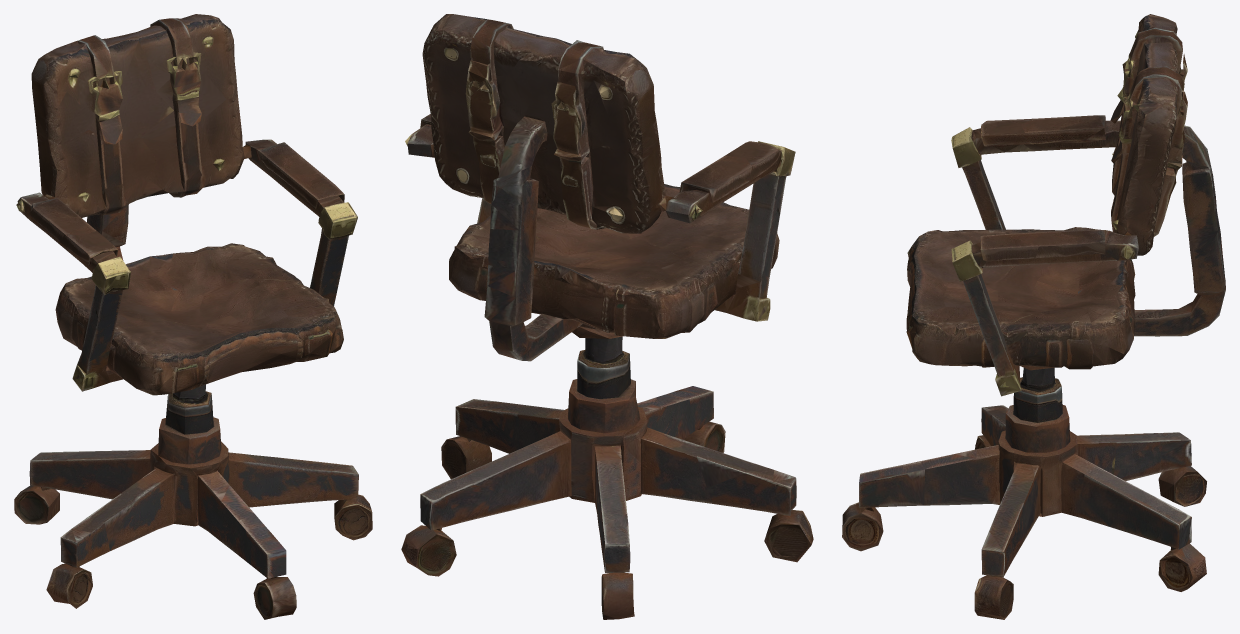
Rendered from office_chair.glb.
The picture shows the model from 3 angles, left to right: view 1: azimuth 30°, elevation 25°; view 2: azimuth 150°, elevation 25°; view 3: azimuth 270°, elevation 25°; orthographic projection. The views are drawn at different scales.
Parts seen in each view (by area): view 1: mesh_node; view 2: mesh_node; view 3: mesh_node.
Part boxes in pixels (x1,y1,x2,y2): mesh_node: [14, 14, 372, 619]; mesh_node: [401, 14, 813, 619]; mesh_node: [842, 14, 1225, 619].
Bounding box in the file's own units: 1.34 × 1.9 × 1.33.
Materials: 1 (1 with a texture image).
